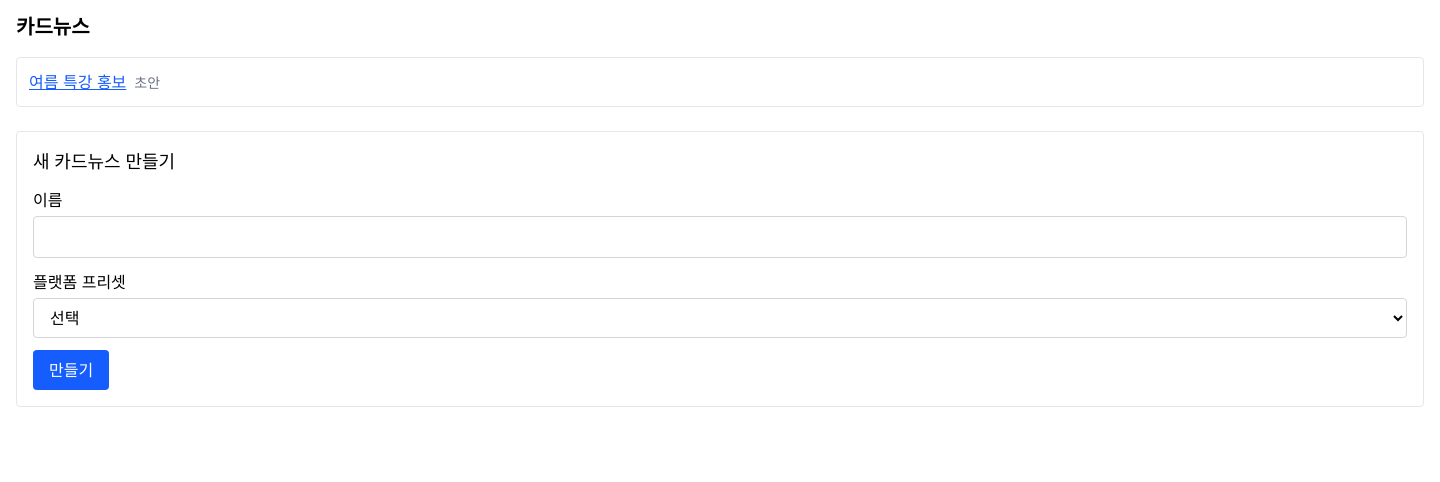
Test case: CardNewsListPage › loads projects and presets, and creates a new project
Expected: the link "여름 특강 홍보" is shown, [29,72,126,92]
Type "신규 프로젝트" into the field labelled "이름".
click(720, 237); type("신규 프로젝트")  # box [33,216,1407,258]
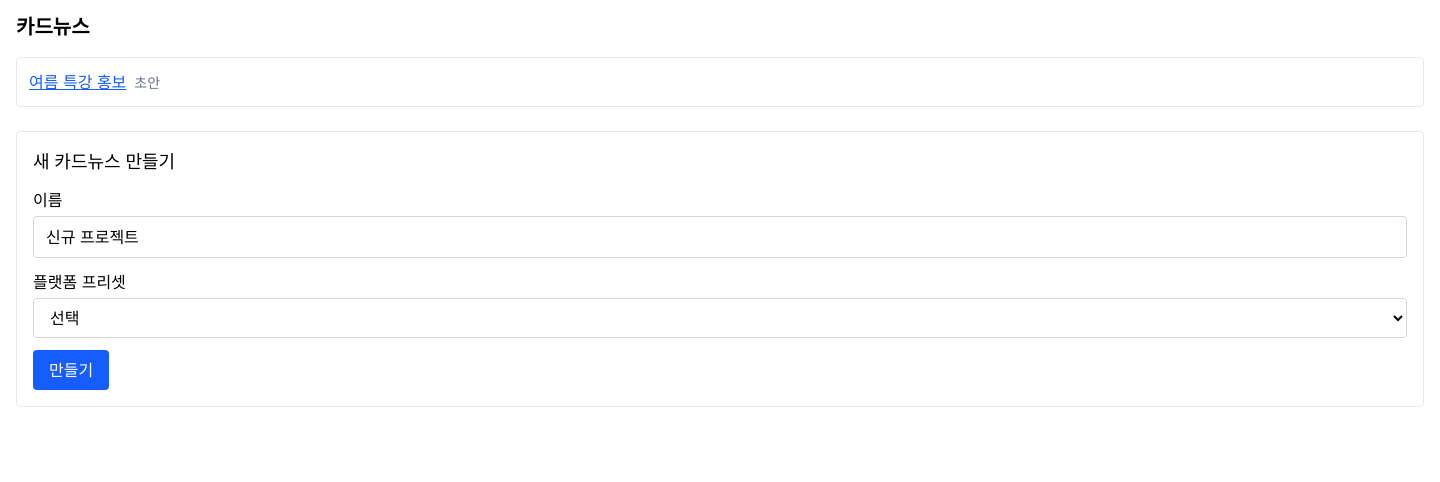
Select "인스타 정사각형" in the dropdown labelled "플랫폼 프리셋" at (720, 318), box [33,298,1407,338]
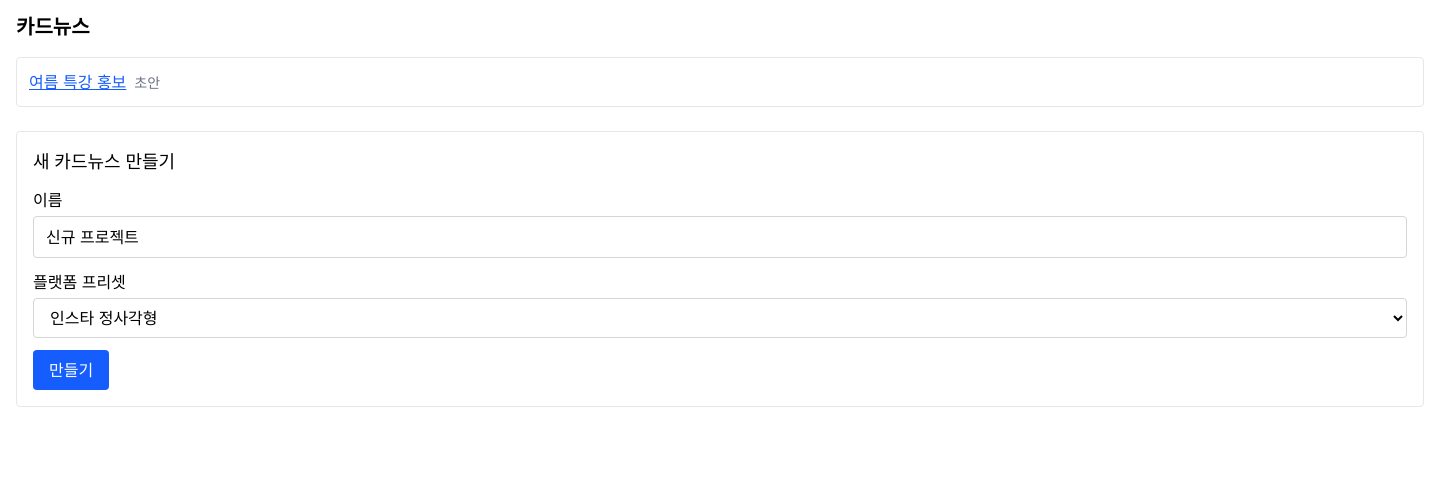
Click the button "만들기".
click(71, 370)  # box [33,350,109,390]
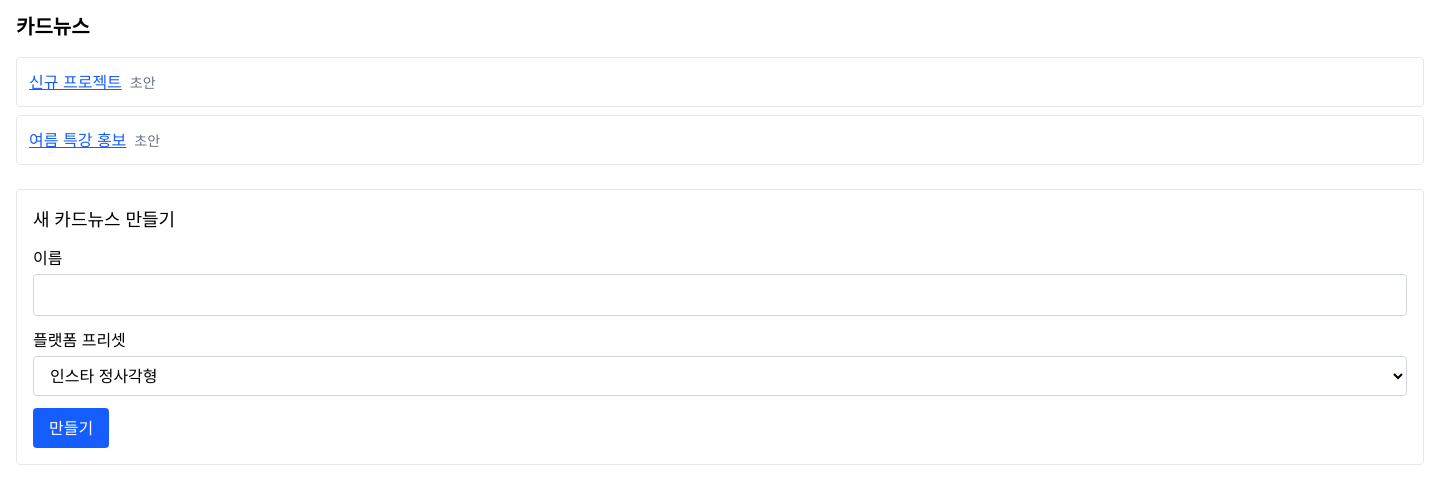
Now the link "신규 프로젝트" is shown, box [29,72,122,92]
